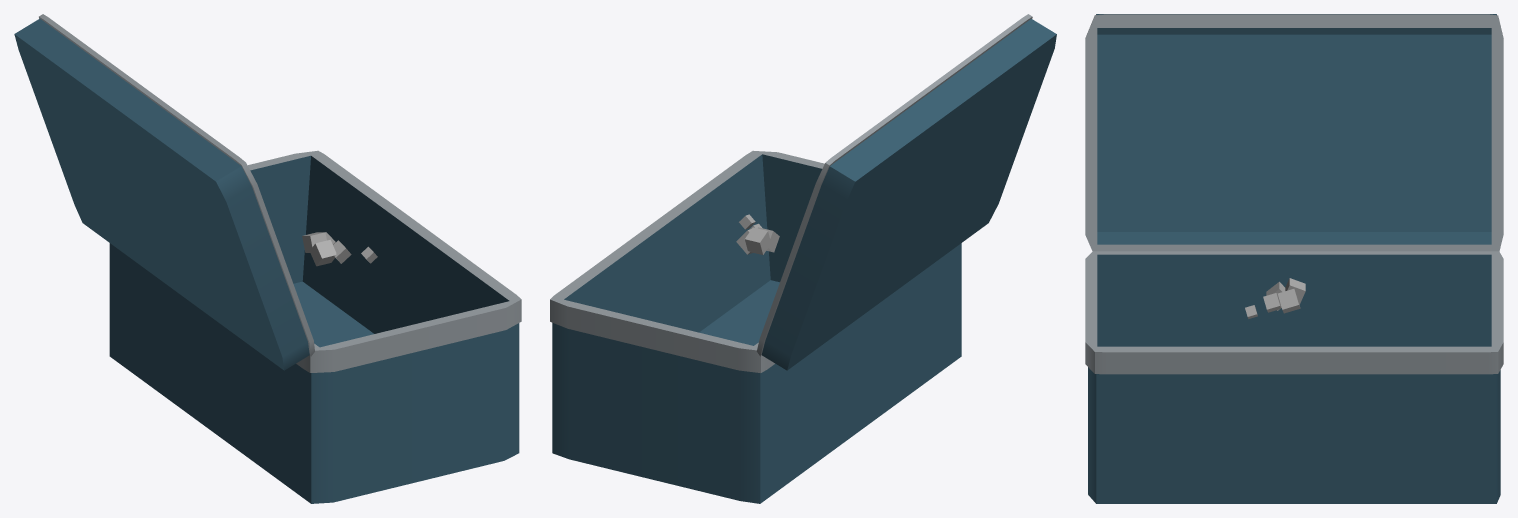
File: esky.fbx
3 renders of one model, left to right at view 1: azimuth 30°, elevation 25°; view 2: azimuth 150°, elevation 25°; view 3: azimuth 270°, elevation 25°, orthographic.
Parts seen in each view (by area): view 1: pCube9, pCube8; view 2: pCube9, pCube8; view 3: pCube9, pCube8.
Part boxes in pixels (box(x1,y1,x2,y2)): pCube9: box(14, 14, 521, 503); pCube8: box(302, 232, 377, 266); pCube9: box(550, 14, 1056, 503); pCube8: box(736, 214, 779, 254); pCube9: box(1085, 14, 1503, 503); pCube8: box(1245, 278, 1305, 318).
Size of the model in its own units: 20.11 by 22.56 by 24.
